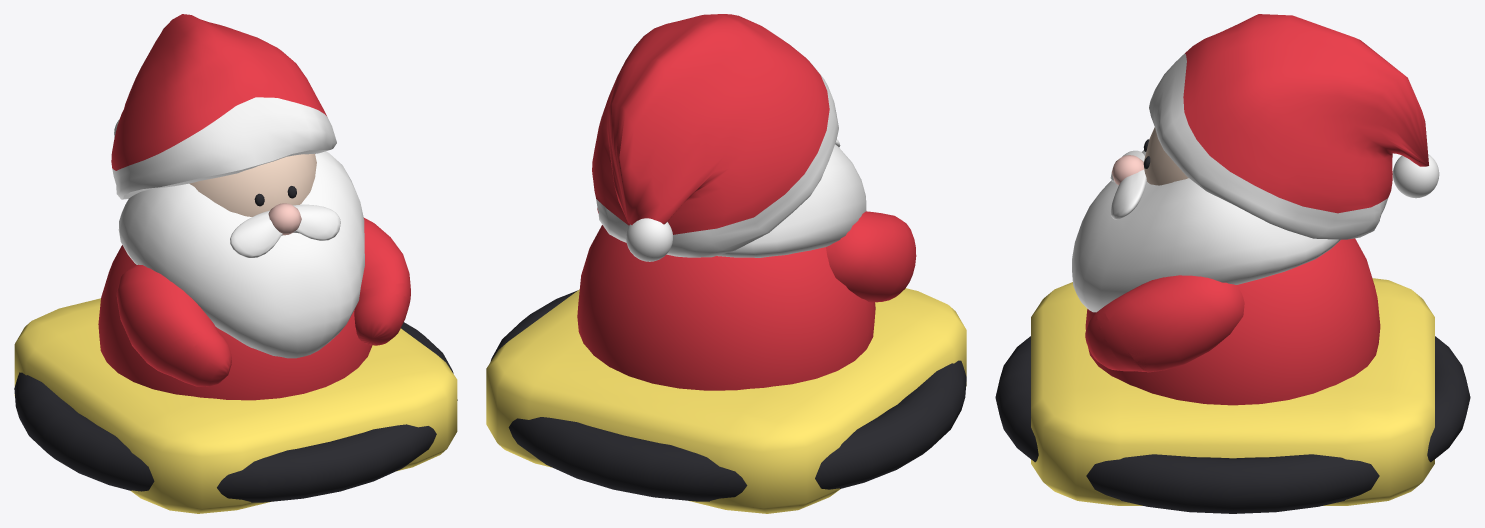
The model's file is bumper.glb.
3 renders of one model, left to right at view 1: azimuth 30°, elevation 25°; view 2: azimuth 150°, elevation 25°; view 3: azimuth 270°, elevation 25°, orthographic. The views are drawn at different scales.
Visible parts, largest first — view 1: bumper_red, bumper_white, bumper_yellow, bumper_black, bumper_skin, bumper_nose; view 2: bumper_red, bumper_yellow, bumper_black, bumper_white; view 3: bumper_red, bumper_yellow, bumper_white, bumper_black, bumper_skin, bumper_nose.
Boxes of the visible parts, <box> form: bumper_red: <box>98,14,410,400</box>; bumper_white: <box>112,97,364,358</box>; bumper_yellow: <box>14,298,457,513</box>; bumper_black: <box>14,186,457,502</box>; bumper_skin: <box>189,153,316,216</box>; bumper_nose: <box>268,203,301,235</box>; bumper_red: <box>577,14,916,390</box>; bumper_yellow: <box>486,288,966,513</box>; bumper_black: <box>490,290,966,501</box>; bumper_white: <box>596,64,866,261</box>; bumper_red: <box>1085,14,1428,405</box>; bumper_yellow: <box>1031,278,1434,505</box>; bumper_white: <box>1072,53,1439,312</box>; bumper_black: <box>995,139,1470,513</box>; bumper_skin: <box>1143,127,1188,185</box>; bumper_nose: <box>1111,155,1143,185</box>.
Bounding box in the file's own units: 3.06 × 2.98 × 3.06.
